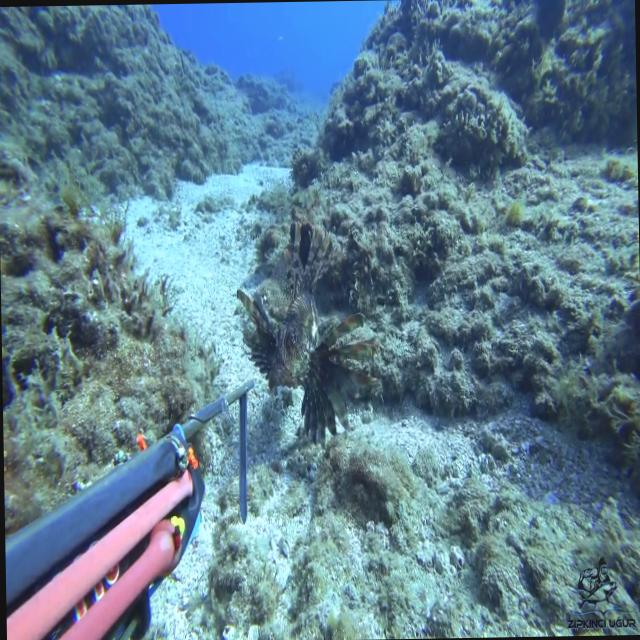Aslan Baligi: (224, 218, 384, 444)
